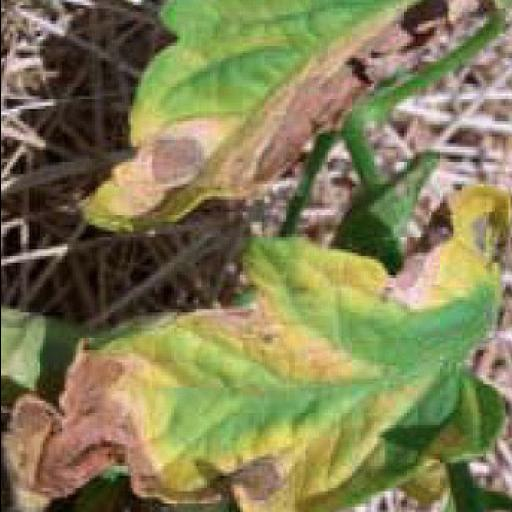Early Blight: (0, 225, 500, 509), (67, 3, 412, 217)
